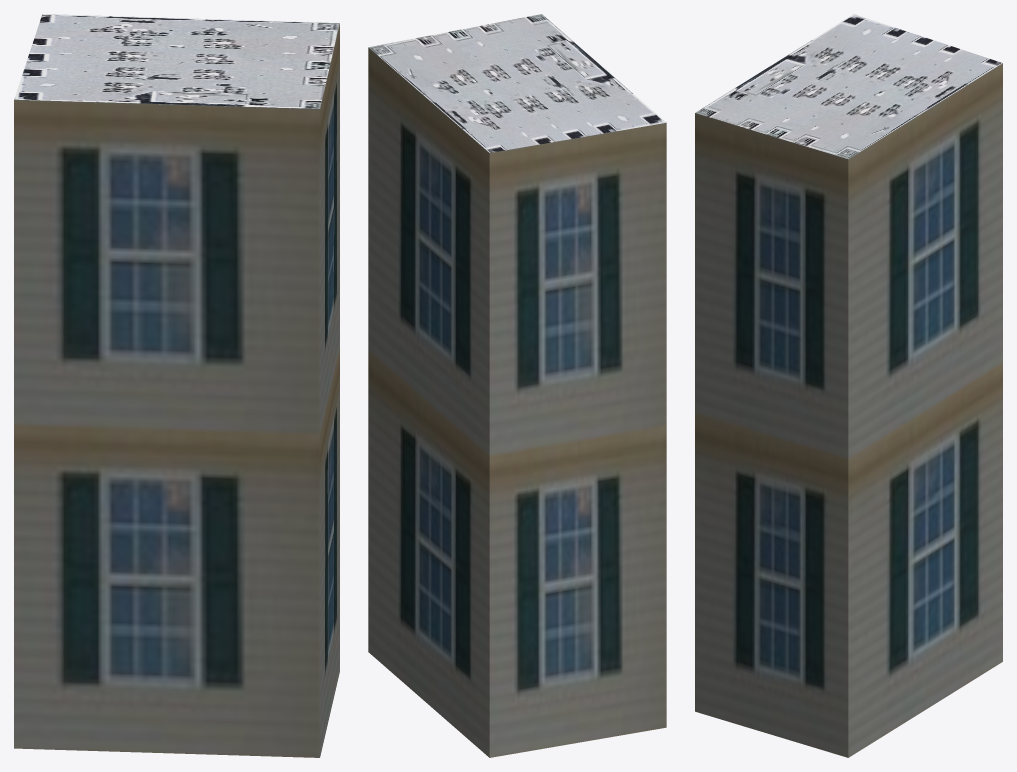
File: ResTex__4549.fbx
3 renders of one model, left to right at view 1: azimuth 30°, elevation 25°; view 2: azimuth 150°, elevation 25°; view 3: azimuth 270°, elevation 25°, orthographic. The views are drawn at different scales.
Parts seen in each view (by area): view 1: CityEngineMaterial_7_m, CityEngineMaterial_m; view 2: CityEngineMaterial_7_m, CityEngineMaterial_m; view 3: CityEngineMaterial_7_m, CityEngineMaterial_m.
Part boxes in pixels (x1,y1,x2,y2): CityEngineMaterial_7_m: (14,23,339,757); CityEngineMaterial_m: (14,14,339,108); CityEngineMaterial_7_m: (368,47,666,757); CityEngineMaterial_m: (369,14,665,152); CityEngineMaterial_7_m: (695,63,1002,757); CityEngineMaterial_m: (695,14,1002,159).
Size of the model in its own units: 3.12 by 6 by 2.8.
2 materials, 2 textured.
